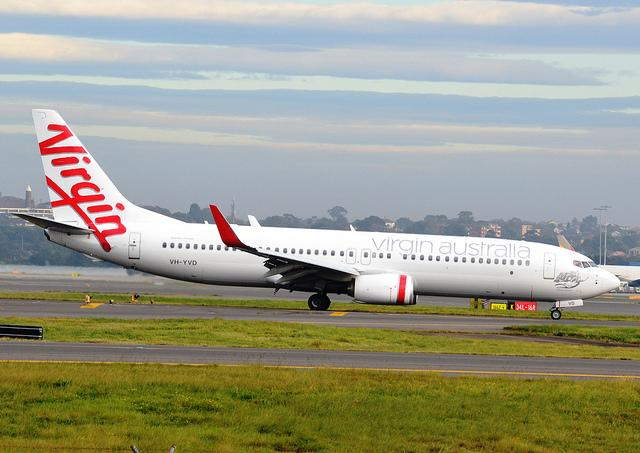airplane: (10, 106, 623, 321), (554, 232, 640, 295)
